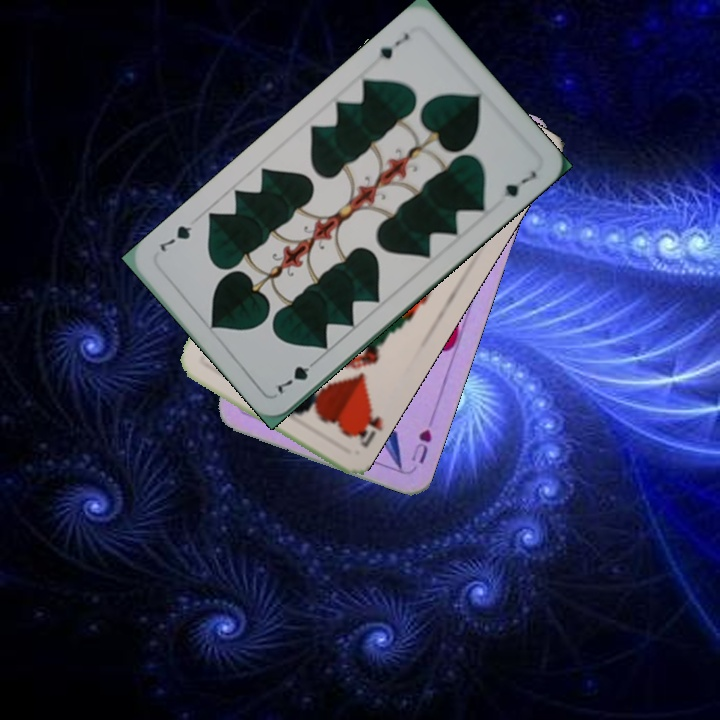G7: (273, 354, 322, 397), (375, 29, 412, 62)
HO: (346, 400, 385, 450)
HU: (407, 425, 435, 466)
